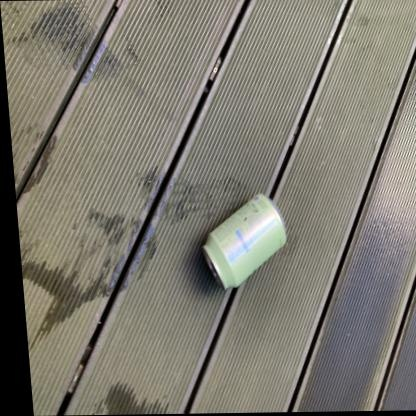trash: (203, 194, 286, 288)
